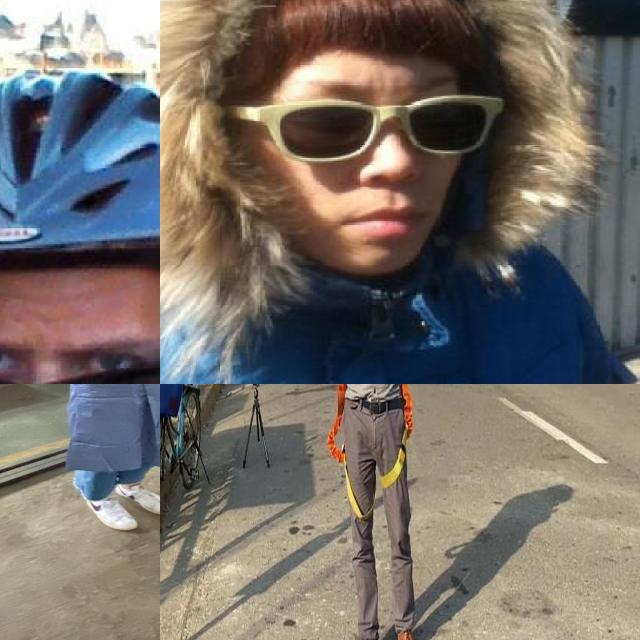Harness: (327, 384, 374, 520), (380, 384, 414, 490)
face_nomask: (260, 84, 480, 252), (0, 319, 160, 384)
glasses: (221, 72, 503, 166)
head_helmet: (0, 64, 160, 291)
head_nohelmet: (219, 0, 495, 80)
person: (160, 0, 614, 384), (12, 384, 160, 537)
shoes: (70, 483, 144, 535), (102, 476, 160, 517)
